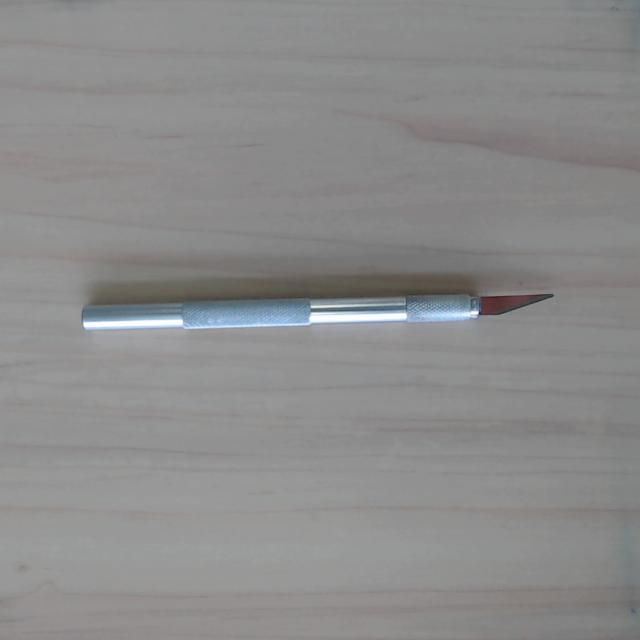Cutter-Kecil: (81, 290, 554, 332)
